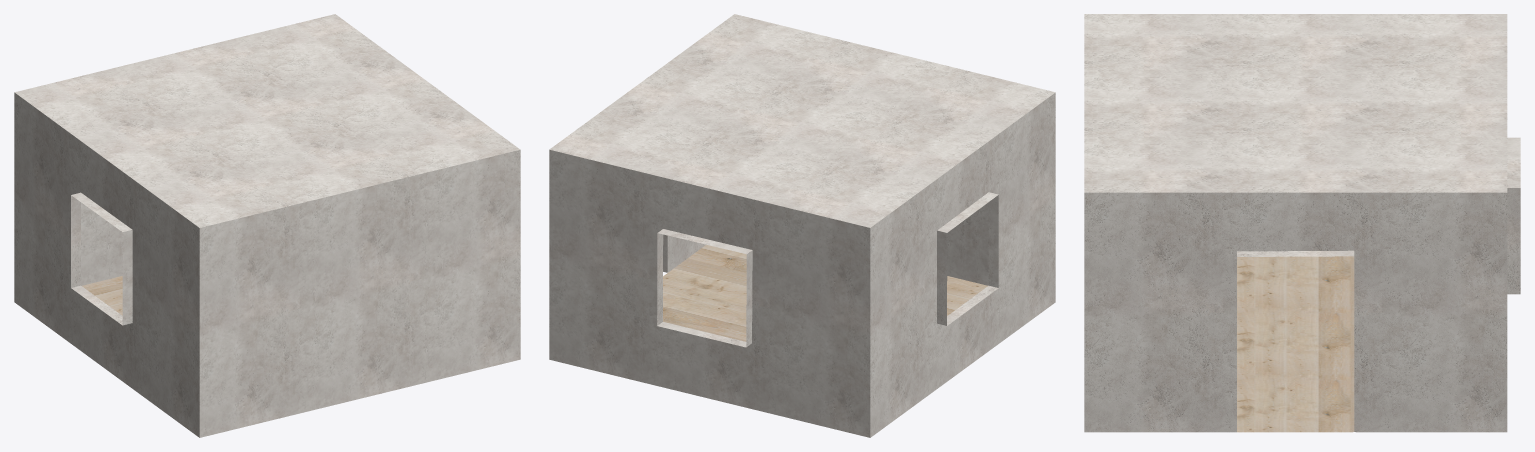
The model's file is walls.FBX.
3 renders of one model, left to right at view 1: azimuth 30°, elevation 25°; view 2: azimuth 150°, elevation 25°; view 3: azimuth 270°, elevation 25°, orthographic. The views are drawn at different scales.
Parts seen in each view (by area): view 1: walls; view 2: walls; view 3: walls.
Part boxes in pixels (x1,y1,x2,y2): walls: (14,14,520,437); walls: (549,14,1055,437); walls: (1084,14,1520,432).
Bounding box in the file's own units: 425 × 250 × 413.
2 materials, 2 textured.
